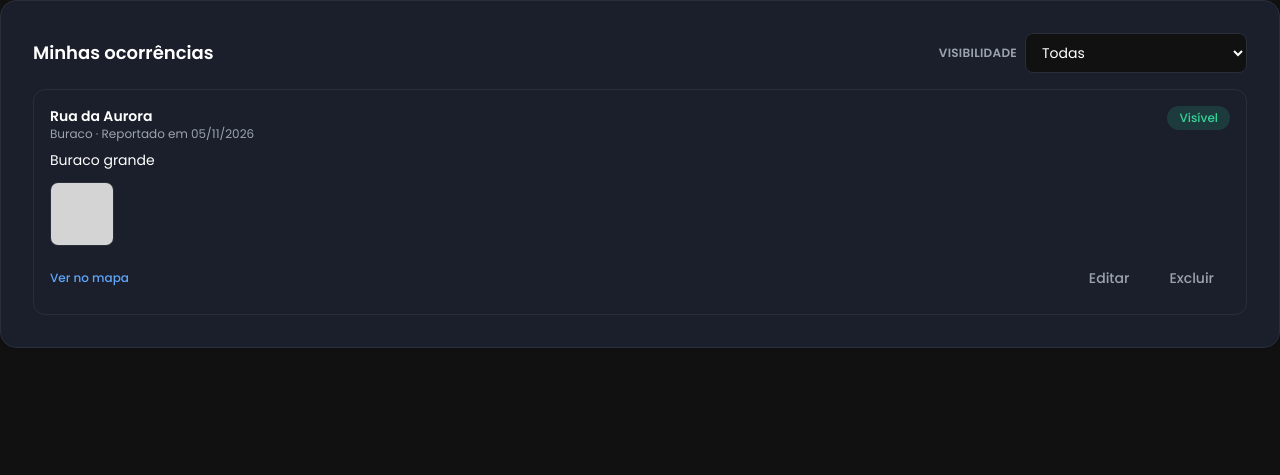
MinhasOcorrencias › mostra a mensagem do servidor quando a exclusão falha
This screenshot has width=1280, height=475.
Expected: the heading "Rua da Aurora" is shown, [50,106,152,126]
Click the button "Excluir".
click(1192, 278)  # box [1153,258,1230,298]
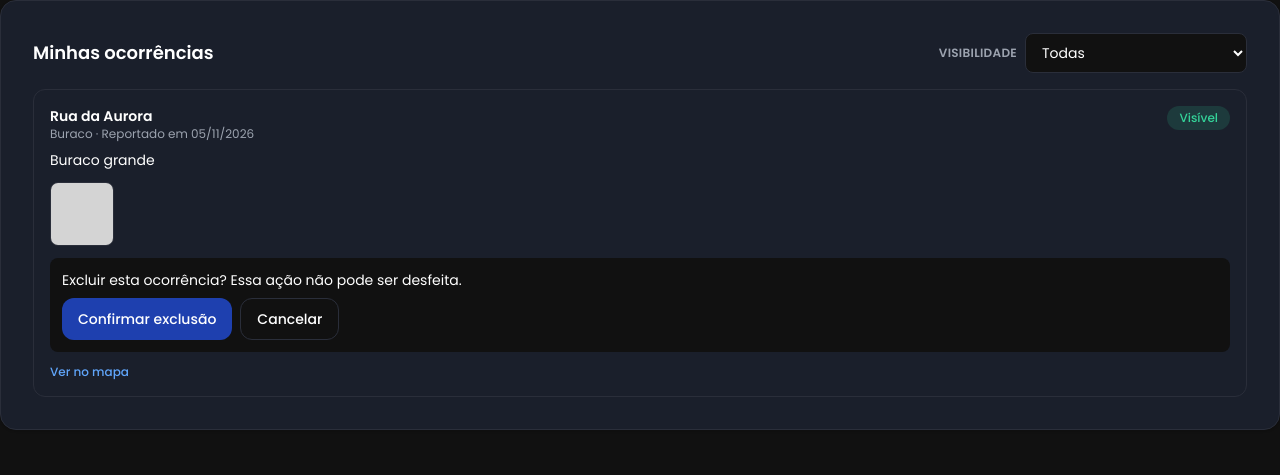
Click the button "Confirmar exclusão".
click(147, 319)  # box [62,298,232,340]
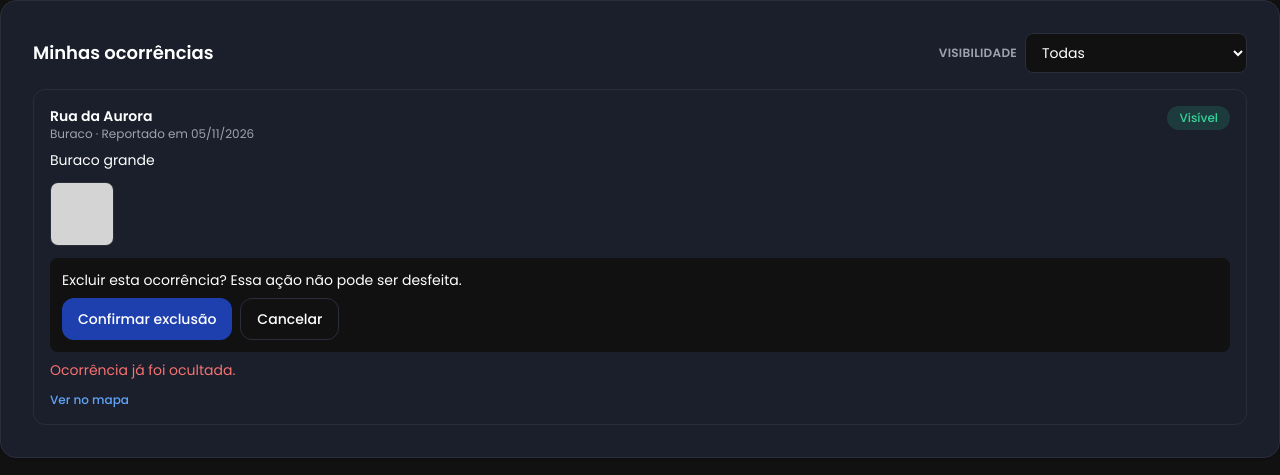
Now the message reads "Ocorrência já foi ocultada.", box [50,360,235,380]
